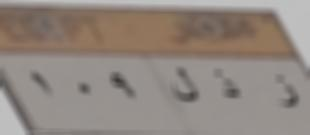0: (77, 75, 91, 103)
1: (27, 66, 57, 102)
9: (107, 68, 138, 106)
laam: (169, 64, 199, 114)
zaal: (208, 66, 246, 109)
zay: (269, 74, 301, 119)
